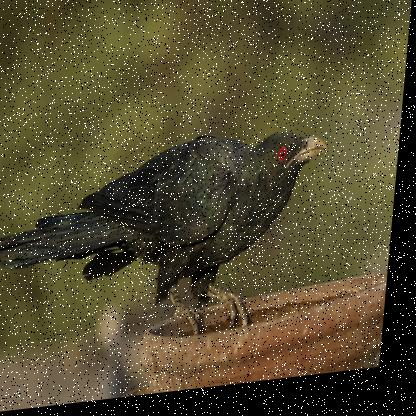Burung: (0, 128, 334, 361)
